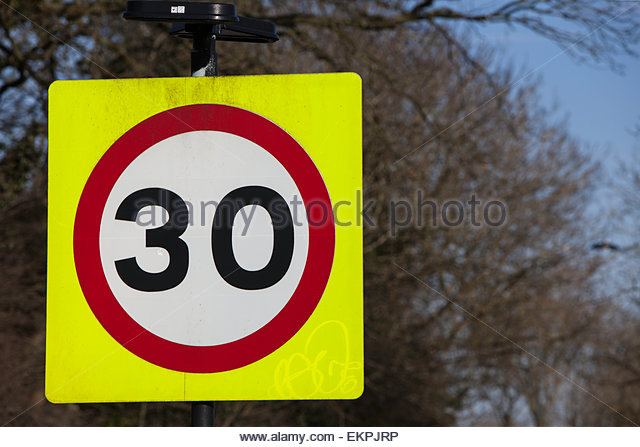Speed_limit_30km: (72, 104, 339, 374)
